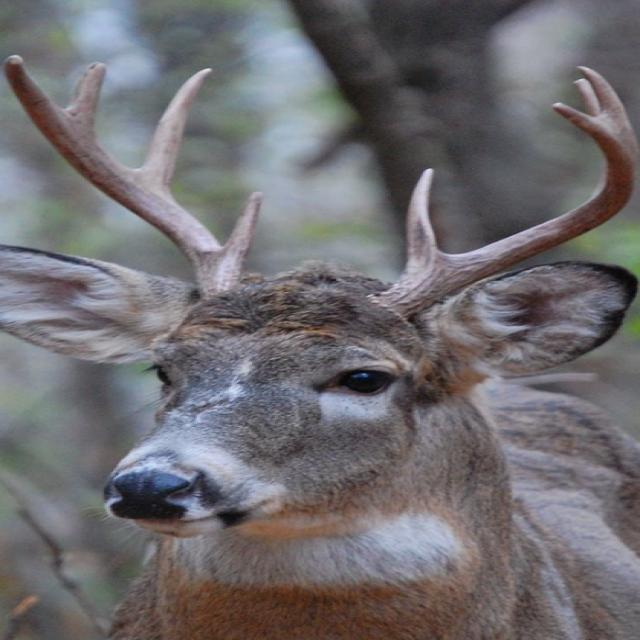L-F: (370, 102, 640, 321)
L-G1: (402, 166, 455, 273)
R-F: (0, 54, 247, 302)
R-G1: (219, 189, 265, 255)
R-G2: (125, 65, 216, 199)
